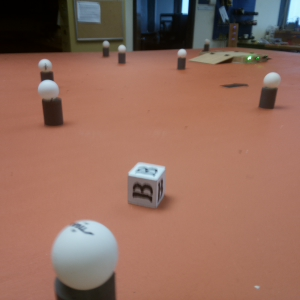blockB: (126, 163, 167, 209)
corner: (228, 22, 240, 49)
obstacle: (52, 218, 121, 300), (37, 79, 64, 127), (258, 72, 283, 110), (37, 58, 56, 78), (175, 48, 187, 71), (117, 44, 126, 66), (101, 41, 111, 57), (202, 37, 212, 51)
side: (238, 53, 271, 66)
slope: (191, 53, 233, 65)
start: (219, 79, 251, 90)
